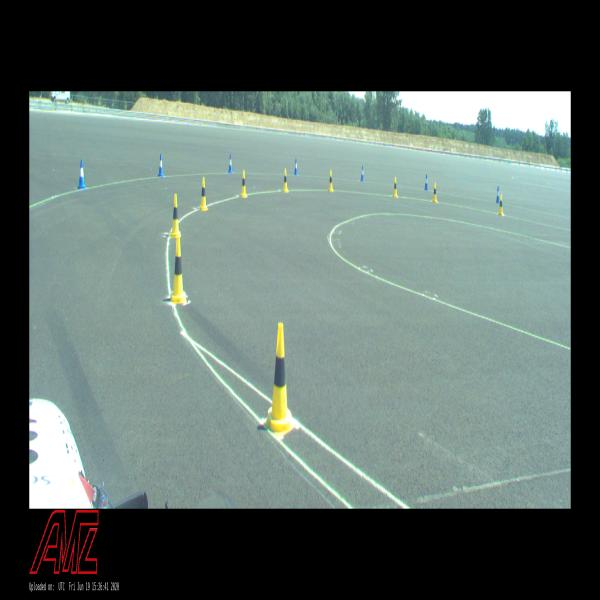blue_cone: (78, 159, 86, 189), (158, 154, 164, 176), (228, 154, 233, 173), (294, 158, 298, 176), (496, 186, 500, 203), (424, 174, 428, 190), (360, 166, 364, 181)
yellow_cone: (268, 323, 292, 432), (171, 238, 186, 302), (170, 194, 180, 238), (200, 177, 207, 210), (241, 170, 247, 197), (498, 194, 504, 216), (328, 170, 334, 191), (283, 169, 288, 192), (432, 183, 438, 202), (393, 178, 398, 198)
